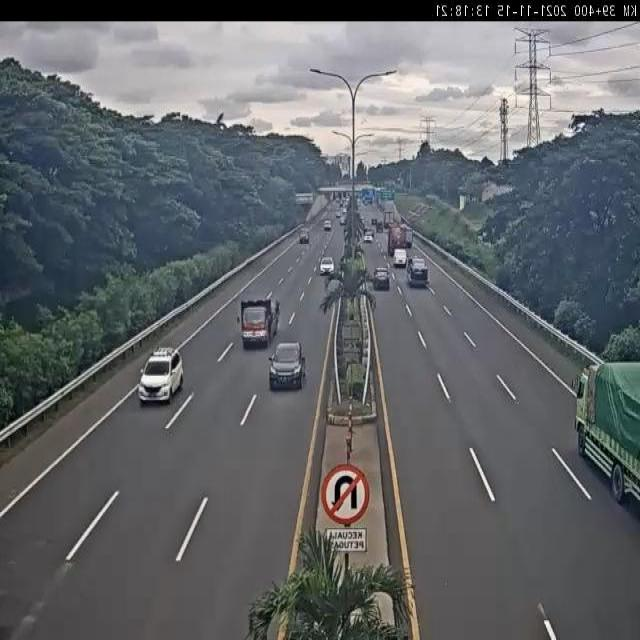Car: (134, 343, 188, 412), (268, 338, 306, 389), (407, 257, 429, 288), (373, 266, 390, 290), (319, 256, 335, 276), (393, 248, 408, 269), (299, 230, 309, 244), (364, 228, 374, 242), (324, 219, 332, 231), (340, 214, 347, 226), (335, 209, 341, 218)
Truck: (572, 359, 640, 504), (237, 293, 281, 349), (386, 227, 405, 254)
